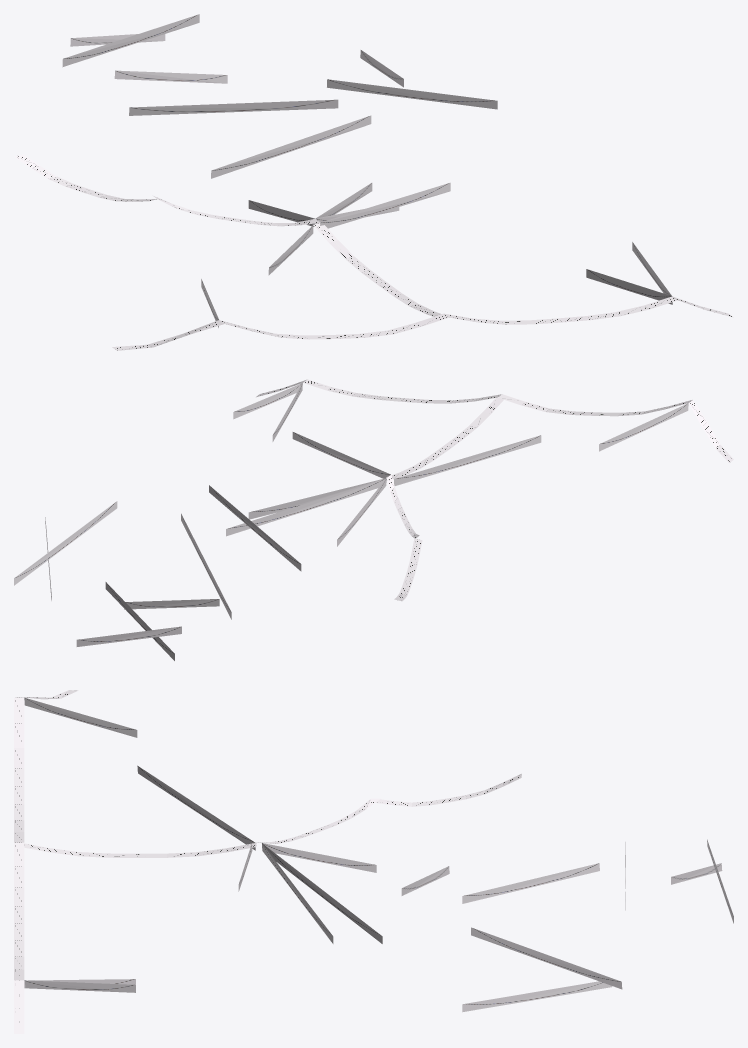
The model's file is wires_17_sfs.obj.
The picture shows the model from 3 angles, top to bottom: view 1: azimuth 30°, elevation 25°; view 2: azimuth 150°, elevation 25°; view 3: azimuth 270°, elevation 25°; orthographic projection. The views are drawn at different scales.
Parts seen in each view (by area): view 1: wires_17_SFS; view 2: wires_17_SFS; view 3: wires_17_SFS.
Boxes of the visible parts, <box> form: wires_17_SFS: <box>14,14,733,350</box>; wires_17_SFS: <box>14,379,733,660</box>; wires_17_SFS: <box>14,690,733,1033</box>.
Size of the model in its own units: 106 by 20.06 by 121.
2 materials, 2 textured.
